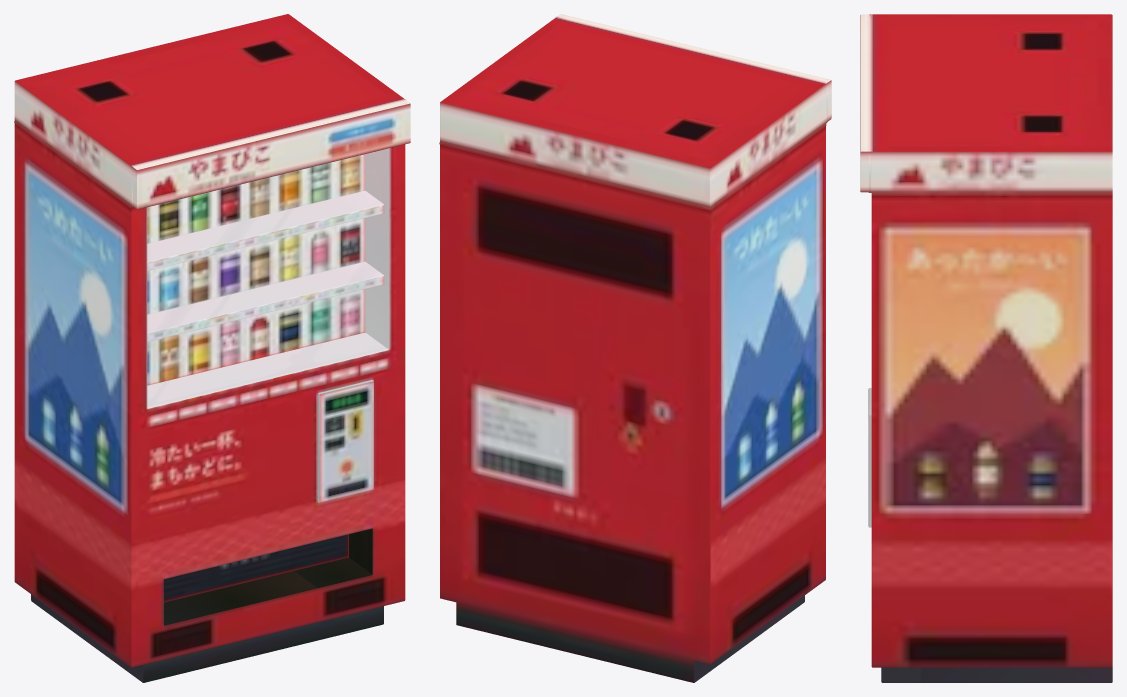
File: vending_red.glb
3 views of the same model, side by side, from view 1: azimuth 30°, elevation 25°; view 2: azimuth 150°, elevation 25°; view 3: azimuth 270°, elevation 25° (orthographic). The views are drawn at different scales.
Visible parts, largest first — view 1: SM_Vending_Machine_Red; view 2: SM_Vending_Machine_Red; view 3: SM_Vending_Machine_Red.
Boxes of the visible parts, x1,y1,x2,y2 form: SM_Vending_Machine_Red: [14, 14, 410, 682]; SM_Vending_Machine_Red: [439, 14, 831, 682]; SM_Vending_Machine_Red: [860, 14, 1112, 682].
Bounding box in the file's own units: 1 × 1.83 × 0.775.
Materials: 2 (2 with a texture image).
